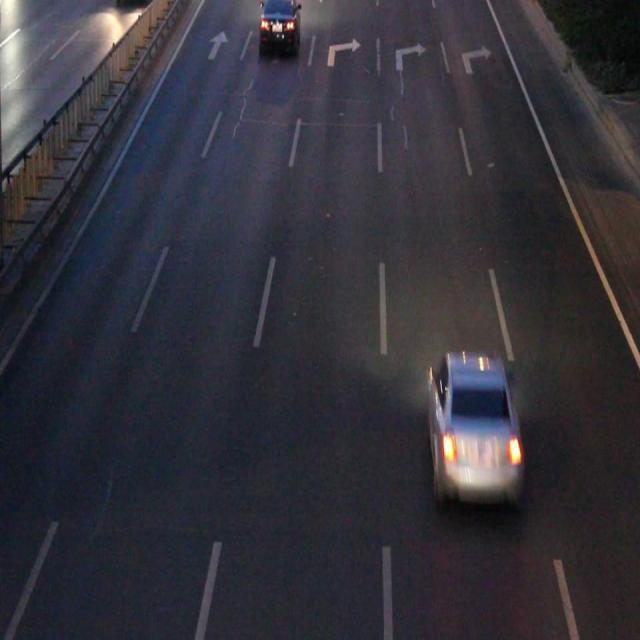car: (428, 356, 518, 502), (259, 1, 299, 49)
